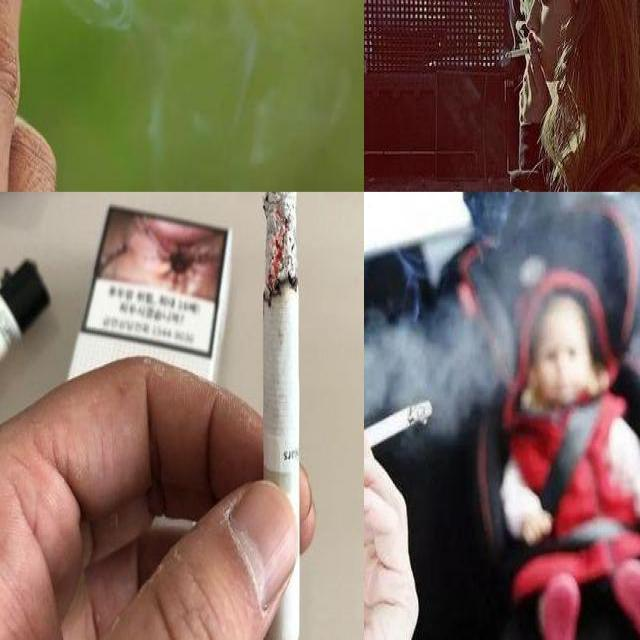smoke: (261, 192, 300, 638), (364, 394, 445, 480), (504, 46, 532, 60)
